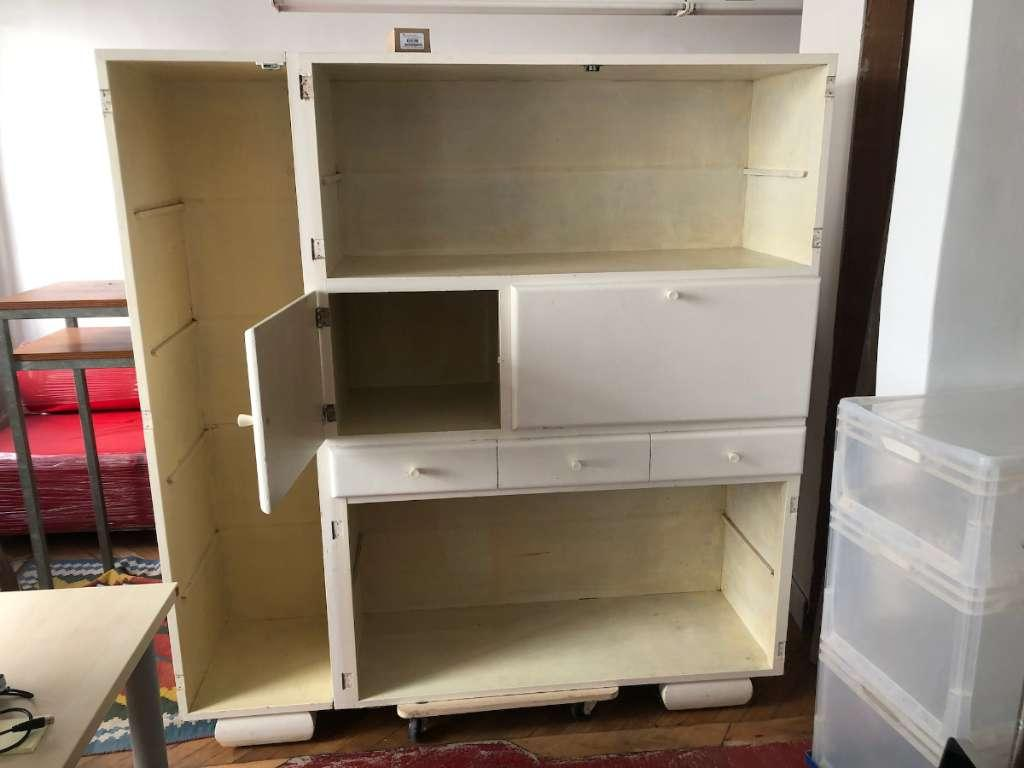cabinet_door: (501, 282, 807, 429), (252, 311, 329, 484), (332, 444, 494, 492), (657, 430, 803, 478), (499, 441, 646, 485)
handle: (717, 447, 753, 469), (564, 455, 589, 475), (234, 411, 259, 431), (662, 286, 682, 308), (408, 463, 429, 481)
